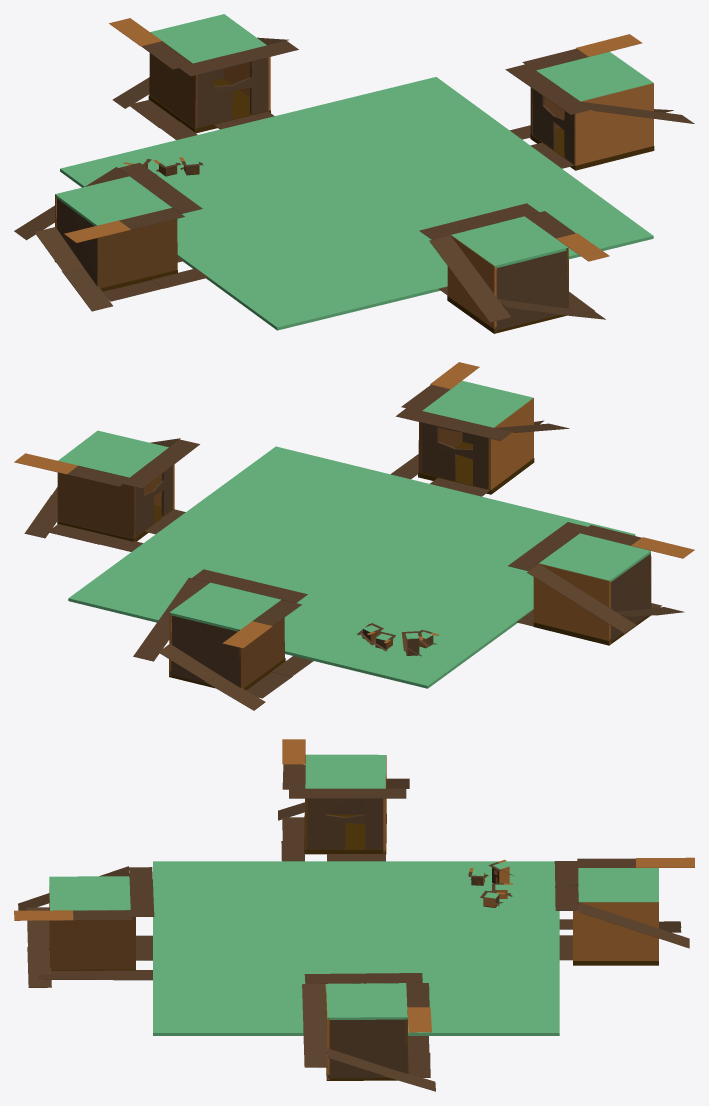
Rendered from house_meeting.glb.
3 views of the same model, one above another, from view 1: azimuth 30°, elevation 25°; view 2: azimuth 150°, elevation 25°; view 3: azimuth 270°, elevation 25° (orthographic). The views are drawn at different scales.
Visible parts, largest first — view 1: Cube.023; view 2: Cube.023; view 3: Cube.023.
Boxes of the visible parts, x1,y1,x2,y2 form: Cube.023: (14, 14, 694, 333); Cube.023: (14, 362, 694, 710); Cube.023: (14, 739, 694, 1091).
Size of the model in its own units: 46.11 by 5.17 by 45.88.
